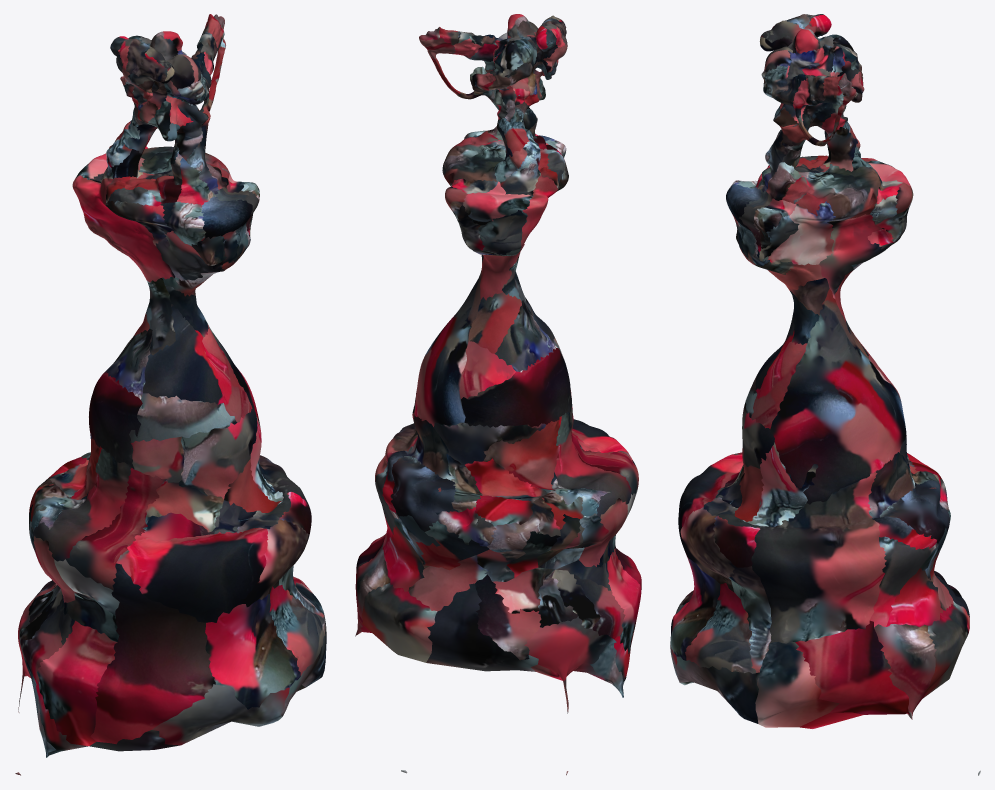
The model's file is 3DModel.obj.
The picture shows the model from 3 angles, left to right: view 1: azimuth 30°, elevation 25°; view 2: azimuth 150°, elevation 25°; view 3: azimuth 270°, elevation 25°; orthographic projection. The views are drawn at different scales.
Parts seen in each view (by area): view 1: 3DModel; view 2: 3DModel; view 3: 3DModel.
Part boxes in pixels (<box>): 3DModel: <box>15,14,326,775</box>; 3DModel: <box>355,14,641,775</box>; 3DModel: <box>670,14,980,775</box>.
Bounding box in the file's own units: 0.4219 × 1.13 × 0.4349.
